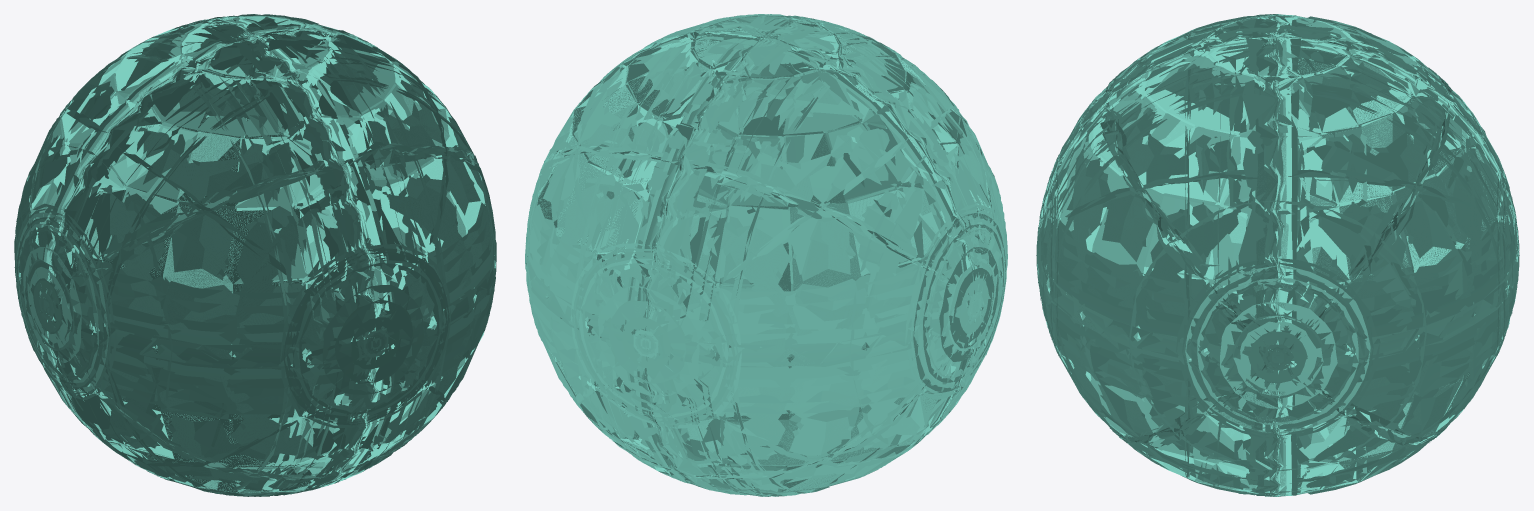
File: piping.glb
3 renders of one model, left to right at view 1: azimuth 30°, elevation 25°; view 2: azimuth 150°, elevation 25°; view 3: azimuth 270°, elevation 25°, orthographic.
Parts seen in each view (by area): view 1: piping; view 2: piping; view 3: piping.
Part boxes in pixels (bbox=[...]): piping: bbox=[14, 14, 496, 496]; piping: bbox=[525, 14, 1007, 496]; piping: bbox=[1036, 14, 1519, 496].
Bounding box in the file's own units: 2 × 2 × 2.
